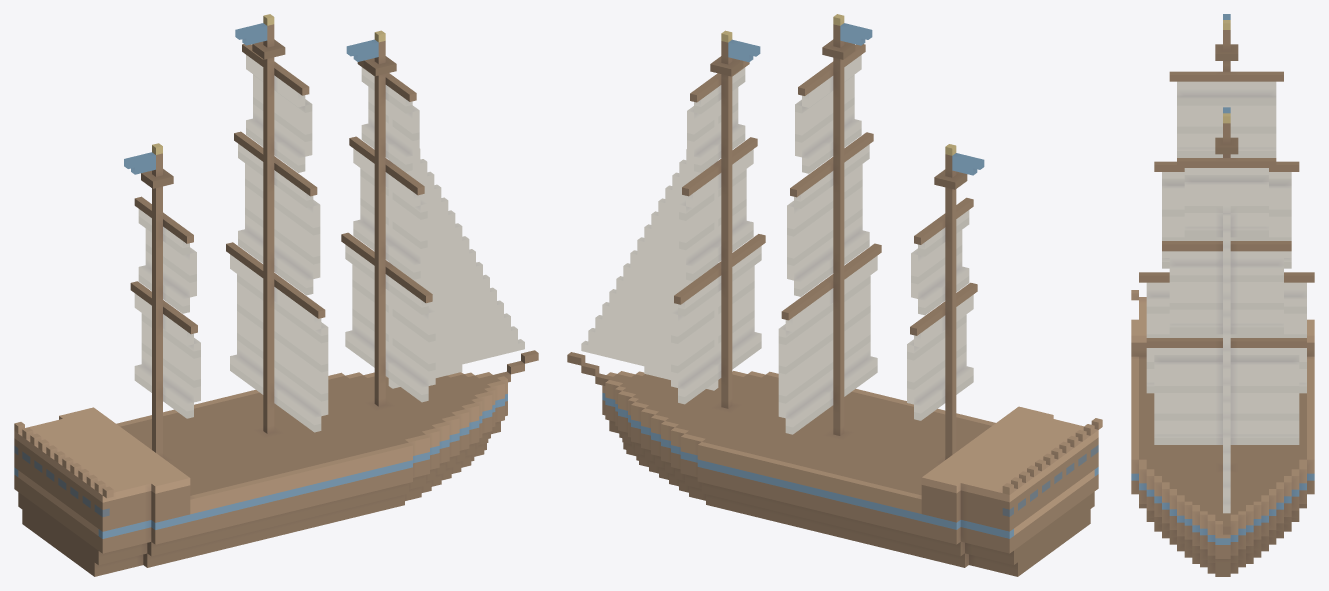
File: galleon.glb
The picture shows the model from 3 angles, left to right: view 1: azimuth 30°, elevation 25°; view 2: azimuth 150°, elevation 25°; view 3: azimuth 270°, elevation 25°; orthographic projection. The views are drawn at different scales.
Parts seen in each view (by area): view 1: galleon; view 2: galleon; view 3: galleon.
Part boxes in pixels (left/top/right/bottom): galleon: left=14, top=14, right=538, bottom=576; galleon: left=567, top=14, right=1102, bottom=576; galleon: left=1131, top=14, right=1314, bottom=576.
Bounding box in the file's own units: 3.45 × 3.3 × 1.2.
